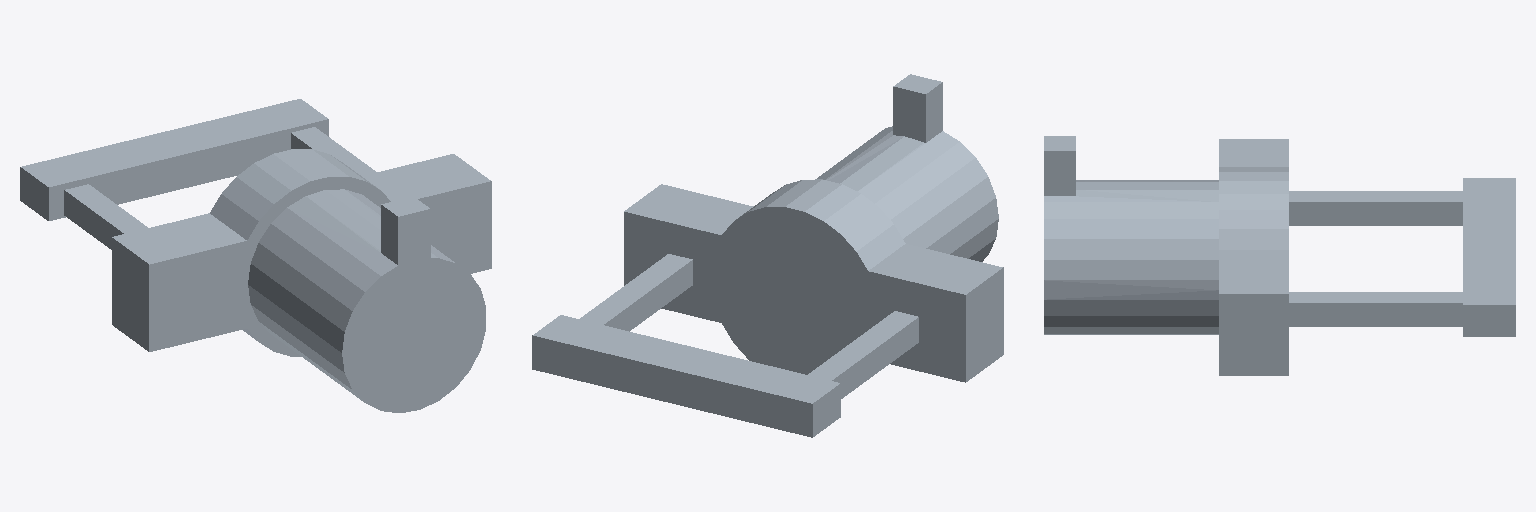
The robot description file, URDF, robot "t_valve":
<?xml version="1.0" encoding="utf-8"?>
<!-- Cleaned from the supplied SolidWorks part export. Source CAD file is not redistributed. -->
<robot name="t_valve">
  <link name="t_valve">
    <inertial>
      <origin
        xyz="1.8704E-05 -0.040486 0.000412850000000002"
        rpy="0 0 0" />
      <mass
        value="1.3463" />
      <inertia
        ixx="0.0059733"
        ixy="-2.2785E-06"
        ixz="-1.8399E-06"
        iyy="0.0030544"
        iyz="-5.51709999999997E-05"
        izz="0.0077765" />
    </inertial>
    <visual>
      <origin
        xyz="0 0 0"
        rpy="1.5707963267949 0 0" />
      <geometry>
        <mesh
          filename="package://t_valve/meshes/T型阀.SLDPRT.STL" />
      </geometry>
      <material name="t_valve_material">
        <color rgba="0.72 0.76 0.80 1" />
      </material>
    </visual>
    <collision>
      <origin
        xyz="0 0 0"
        rpy="1.5707963267949 0 0" />
      <geometry>
        <mesh
          filename="package://t_valve/meshes/T型阀.SLDPRT.STL" />
      </geometry>
    </collision>
  </link>
</robot>

--- Facts derived from the render (not from the file) ---
The picture shows the robot from 3 angles, left to right: view 1: azimuth 30°, elevation 25°; view 2: azimuth 150°, elevation 25°; view 3: azimuth 270°, elevation 25°; orthographic projection.
Model t_valve with 1 links and 0 joints (none), rooted at t_valve, posed all joints at 0.
Links seen in each view (by area): view 1: t_valve; view 2: t_valve; view 3: t_valve.
Boxes of the visible links, x1,y1,x2,y2 form: t_valve: (20,99,491,412); t_valve: (532,74,1003,437); t_valve: (1044,136,1515,375).
Bounding box of the posed robot: 0.21 × 0.27 × 0.1235 m (x, y, z).
1 mesh visuals loaded from 1 distinct referenced files (1 binary STL).
